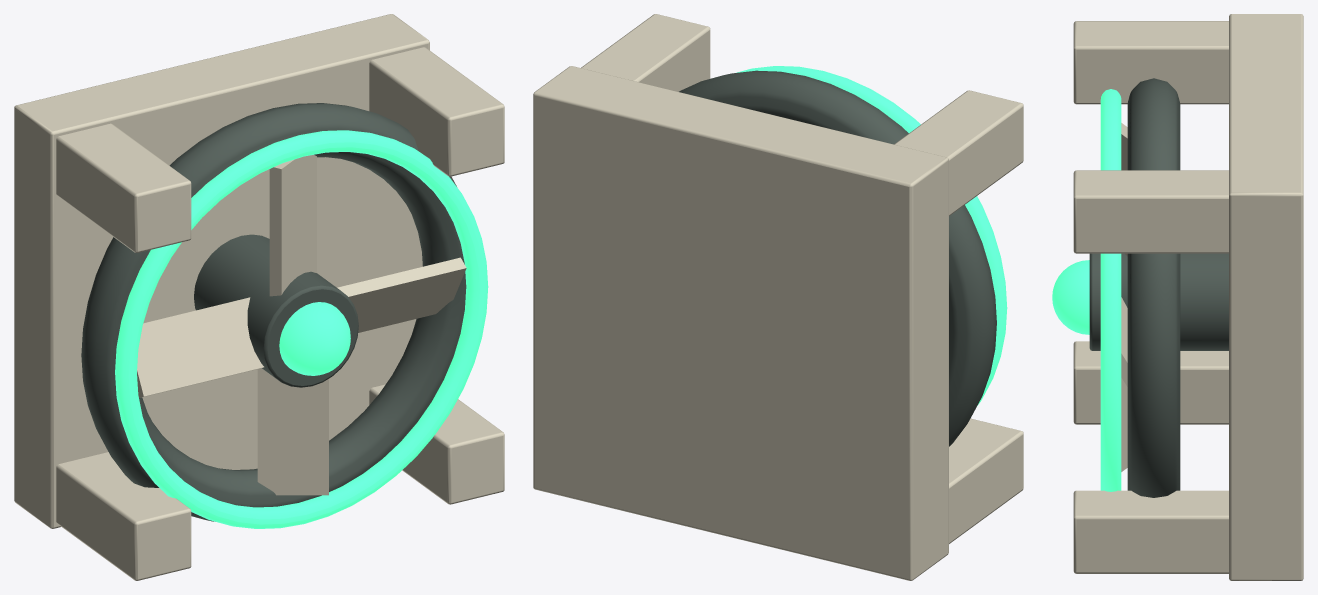
Rendered from zonai_fan-C0YsG3Ud.glb.
3 renders of one model, left to right at view 1: azimuth 30°, elevation 25°; view 2: azimuth 150°, elevation 25°; view 3: azimuth 270°, elevation 25°, orthographic. The views are drawn at different scales.
Parts seen in each view (by area): view 1: body, blades; view 2: body; view 3: body, blades.
Boxes of the visible parts, x1,y1,x2,y2 form: body: [14, 14, 504, 580]; blades: [137, 155, 466, 495]; body: [533, 14, 1023, 580]; body: [1052, 14, 1303, 580]; blades: [1121, 123, 1127, 471].
Bounding box in the file's own units: 0.82 × 0.82 × 0.47.
